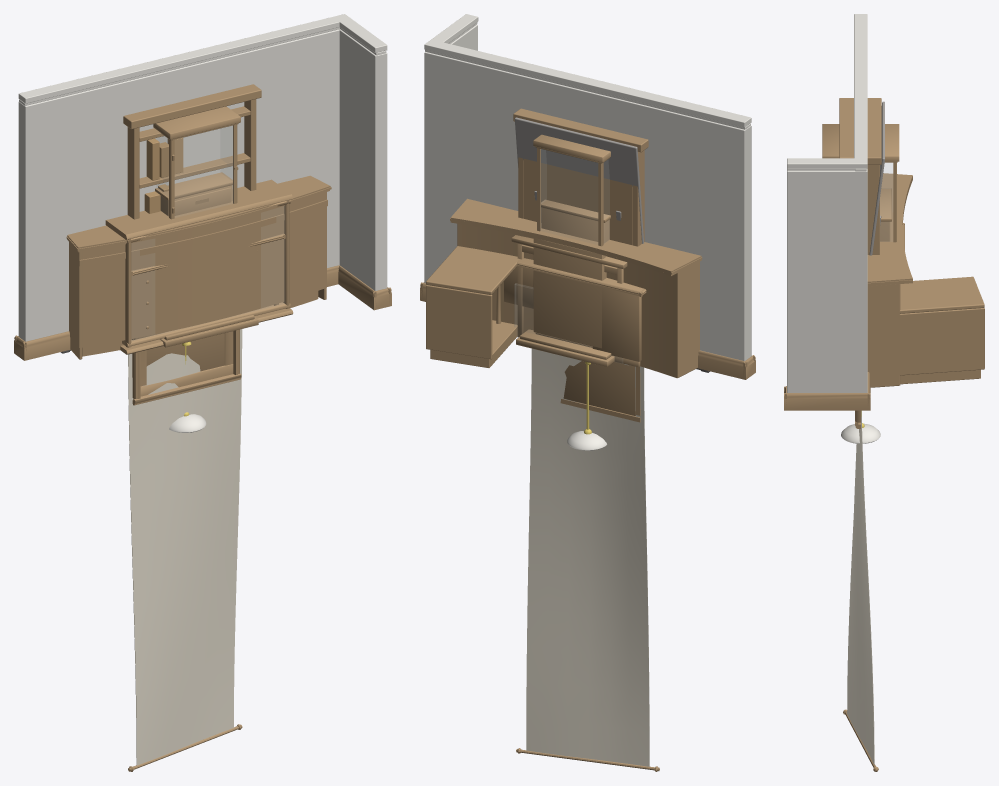
File: kit.7346f044.glb
3 views of the same model, side by side, from view 1: azimuth 30°, elevation 25°; view 2: azimuth 150°, elevation 25°; view 3: azimuth 270°, elevation 25° (orthographic). The views are drawn at different scales.
Parts seen in each view (by area): view 1: partition, banner__cloth, reception-desk, vitrine-wall, bookshelf, frame-empty, vitrine-tower, partition__foot, archive-cabinet, bookshelf__books, plinth-tapered; view 2: partition, banner__cloth, reception-desk, vitrine-tower, bookshelf, curator-desk, interp-panel, frame-empty, archive-cabinet, vitrine-table, plinth-tapered, partition__foot (+1 smaller); view 3: partition, reception-desk, banner__cloth, bookshelf, partition__foot, vitrine-tower, archive-cabinet, interp-panel, pendant__shade.
Part boxes in pixels (x1,y1,x2,y2): partition: (18,14,387,341); banner__cloth: (128,329,242,765); reception-desk: (66,175,331,359); vitrine-wall: (105,179,293,354); bookshelf: (123,84,261,219); frame-empty: (132,329,241,405); vitrine-tower: (153,106,240,219); partition__foot: (14,265,391,360); archive-cabinet: (155,172,232,216); bookshelf__books: (144,137,183,213); plinth-tapered: (160,315,258,347); partition: (424,14,751,361); banner__cloth: (526,348,649,766); reception-desk: (426,198,702,378); vitrine-tower: (533,134,610,348); bookshelf: (513,108,648,246); curator-desk: (496,258,646,367); interp-panel: (514,117,643,243); frame-empty: (560,361,640,422); archive-cabinet: (541,199,610,243); vitrine-table: (511,235,627,337); plinth-tapered: (516,329,614,366); partition__foot: (420,282,755,379); partition: (787,14,867,392); reception-desk: (867,173,984,387); banner__cloth: (847,410,874,764); bookshelf: (839,98,881,254); partition__foot: (784,372,870,410); vitrine-tower: (822,124,899,242); archive-cabinet: (880,188,891,241); interp-panel: (869,101,884,255); pendant__shade: (841,423,880,443).
Bounding box in the file's own units: 3.2 × 6.4 × 1.78.
